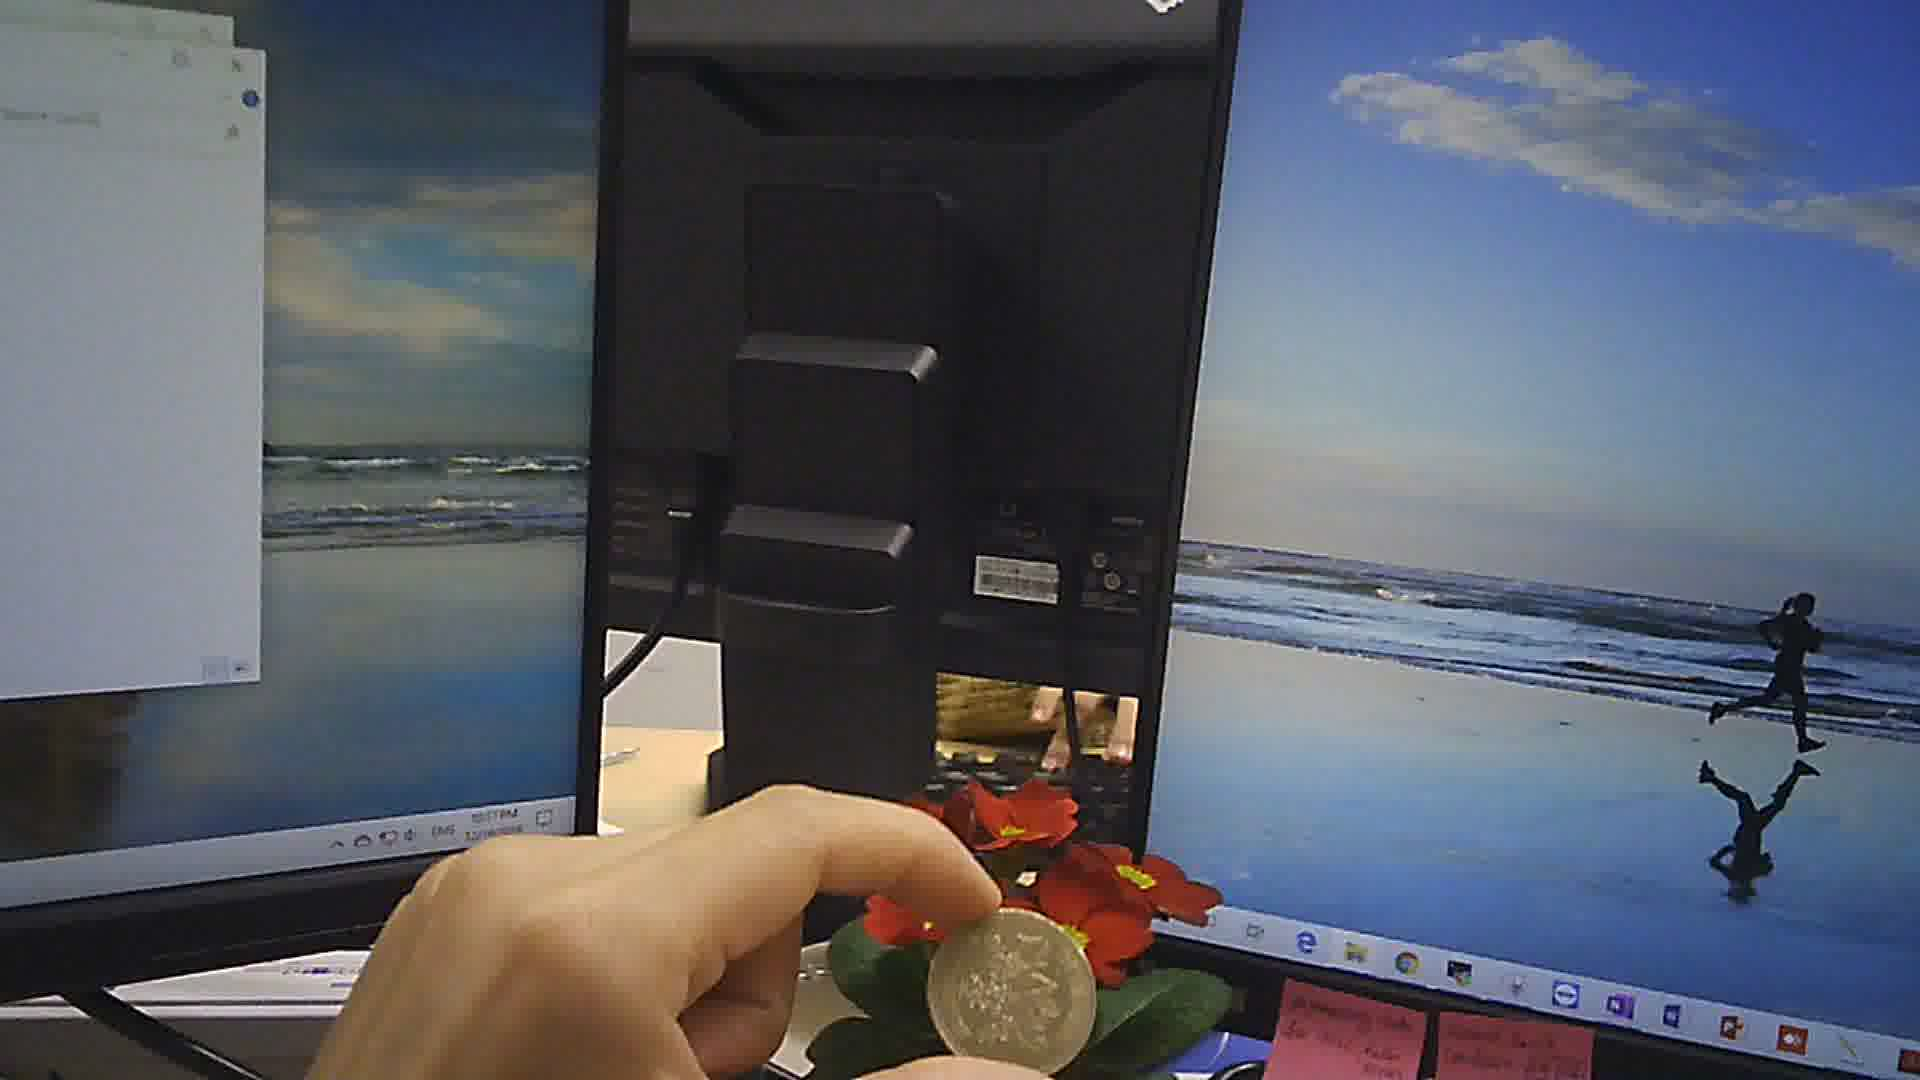500 Yen: (918, 899, 1106, 1069)
